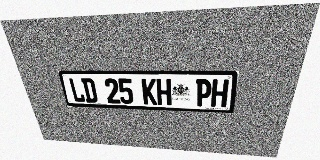2: (104, 78, 121, 104)
5: (117, 78, 134, 104)
D: (81, 78, 98, 103)
H: (210, 79, 229, 107), (156, 79, 171, 105)
K: (141, 79, 157, 105)
L: (68, 78, 86, 102)
P: (195, 79, 212, 107)
